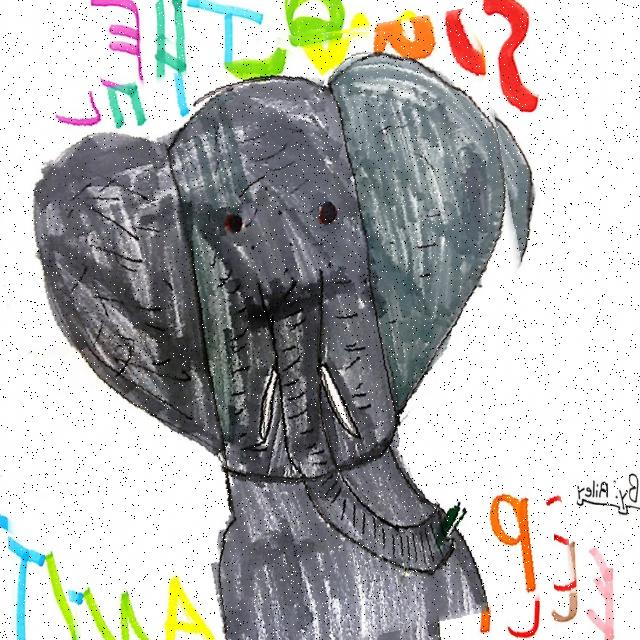elephant: (4, 25, 554, 640)
